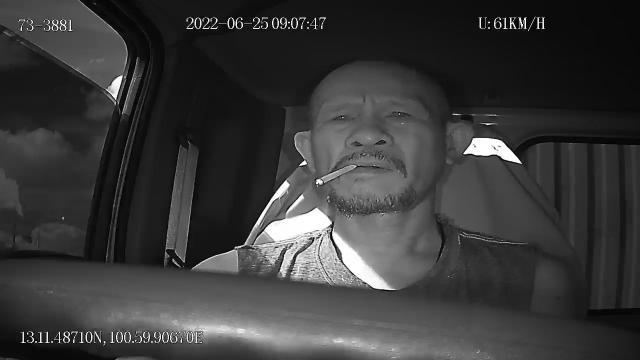SafeDriving: (380, 99, 420, 129), (322, 101, 363, 130)
Smoking: (316, 162, 356, 186)
